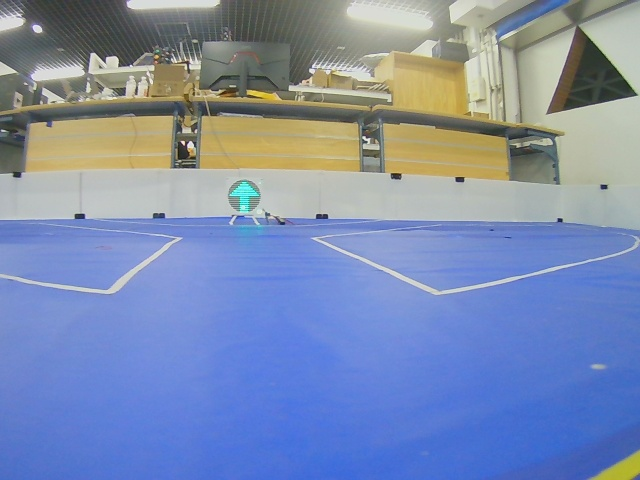straight_green: (228, 180, 261, 215)
